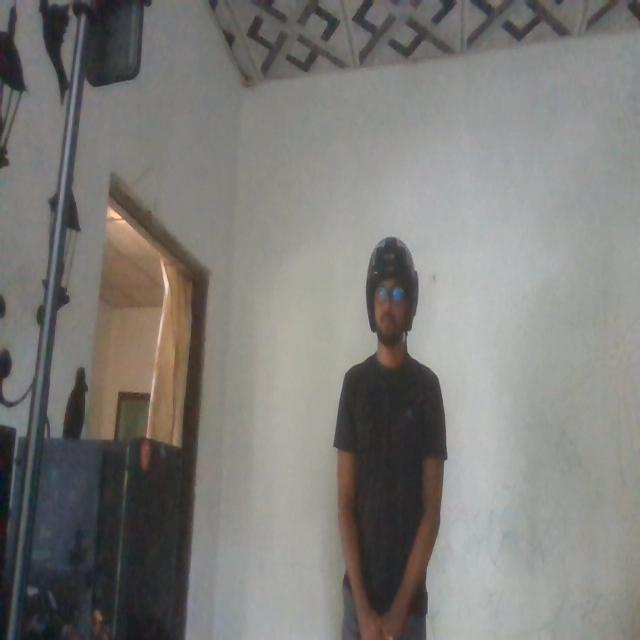Helmet_Wearer: (365, 237, 418, 353)
Person: (325, 230, 448, 640)
